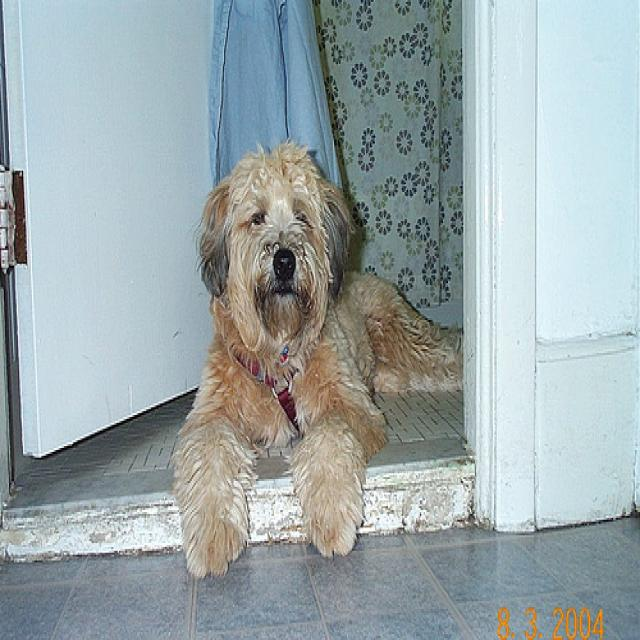dog-wheaten_terrier: (168, 130, 475, 582)
